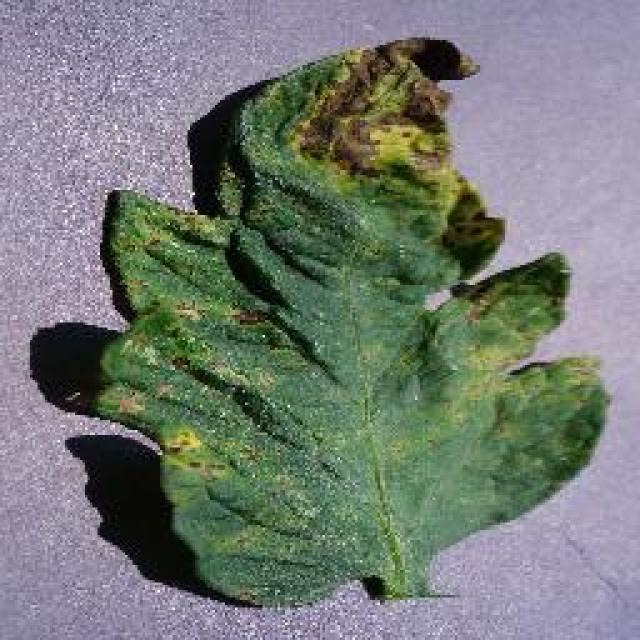Tomato target spot leaf: (96, 34, 612, 606)
